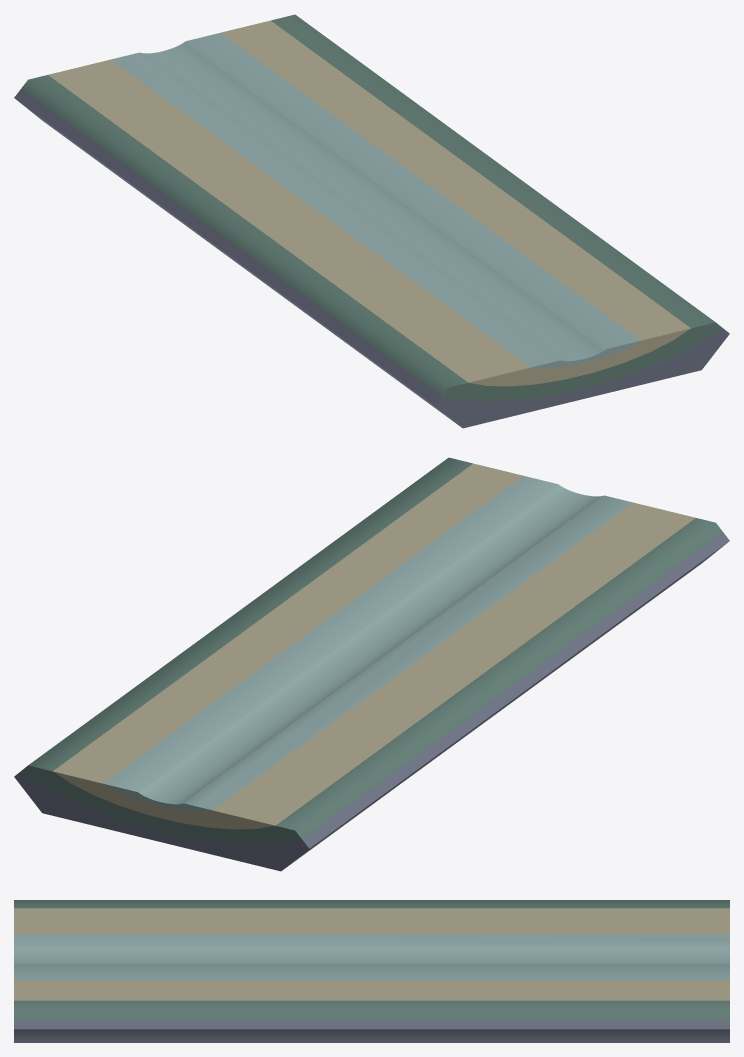
Rendered from Junk_4.fbx.
3 views of the same model, one above another, from view 1: azimuth 30°, elevation 25°; view 2: azimuth 150°, elevation 25°; view 3: azimuth 270°, elevation 25° (orthographic). The views are drawn at different scales.
Visible parts, largest first — view 1: Model; view 2: Model; view 3: Model.
Boxes of the visible parts, <box> form: Model: <box>14,14,729,428</box>; Model: <box>14,457,729,871</box>; Model: <box>14,900,729,1042</box>.
Size of the model in its own units: 79.77 by 11.45 by 197.
